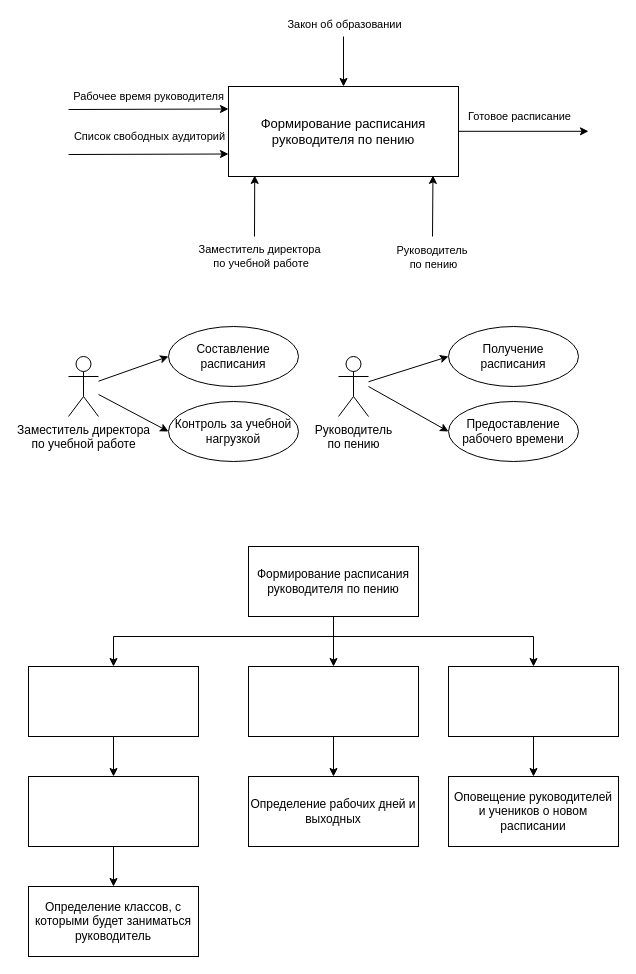
The diagram is 636 pixels wide and 974 high, and some of its shapes have lost their labels. Here are the shapes that lost their labels. From the top down, the centre of each, then its label:
At [113,701]: "Изучение текущего расписания".
At [333,701]: "Составление графика работы".
At [533,701]: "Информирование".
At [113,811]: "Изучение списка свободных аудиторий".
